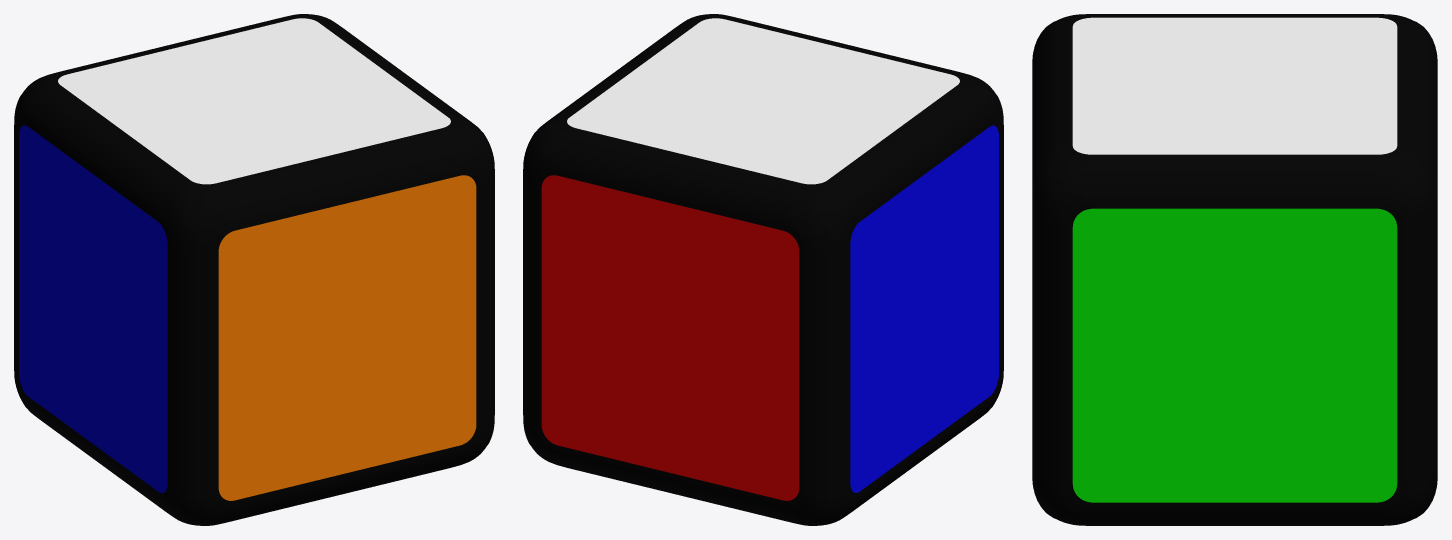
Rendered from bgorwy.fbx.
The picture shows the model from 3 angles, left to right: view 1: azimuth 30°, elevation 25°; view 2: azimuth 150°, elevation 25°; view 3: azimuth 270°, elevation 25°; orthographic projection. The views are drawn at different scales.
Parts seen in each view (by area): view 1: bgorwy; view 2: bgorwy; view 3: bgorwy.
Part boxes in pixels (left/top/right/bottom): bgorwy: left=14, top=14, right=494, bottom=525; bgorwy: left=523, top=14, right=1003, bottom=525; bgorwy: left=1032, top=14, right=1437, bottom=525.
Bounding box in the file's own units: 100 × 100 × 100.
